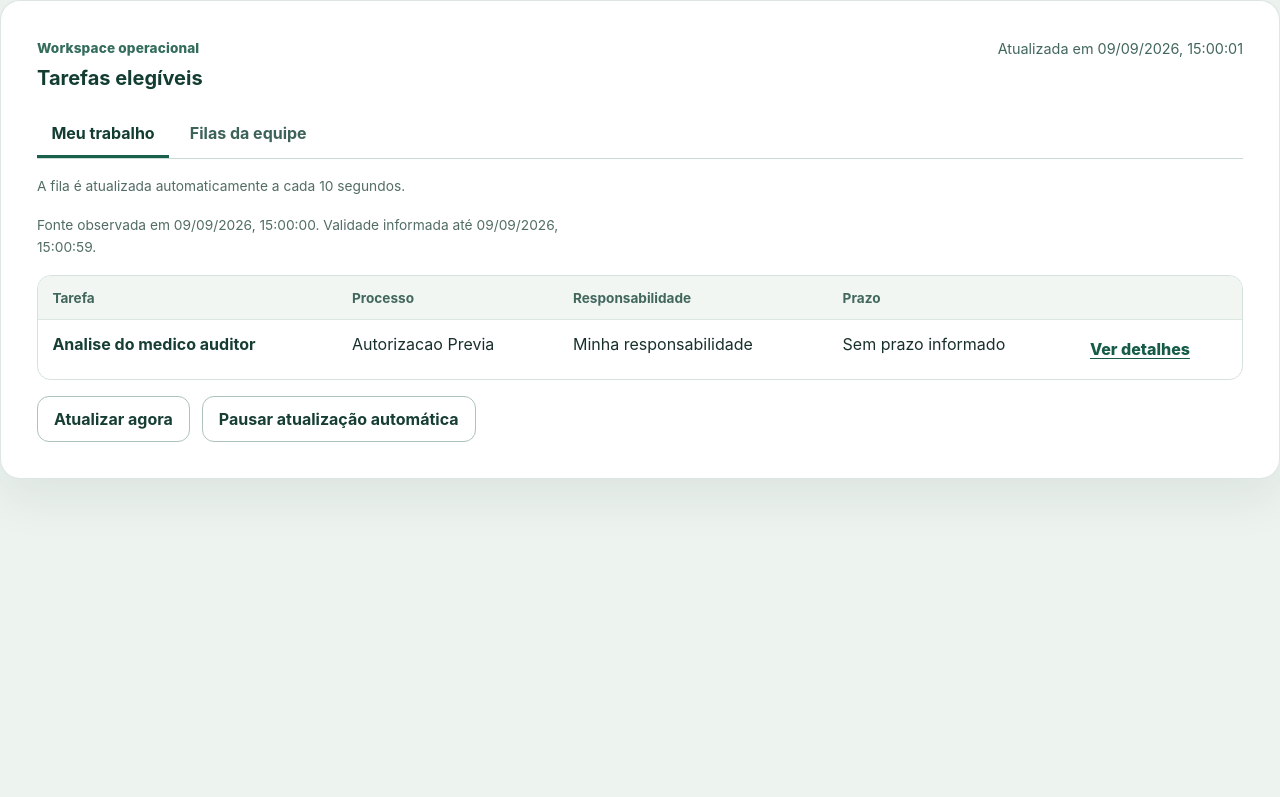
Test case: abre apenas o snapshot público e preserva valores exatos sem ações de mutação
Click the button with aria-label "Ver detalhes: Analise do medico auditor". click: (1140, 350)
box: x1=1090 y1=334 x2=1190 y2=365
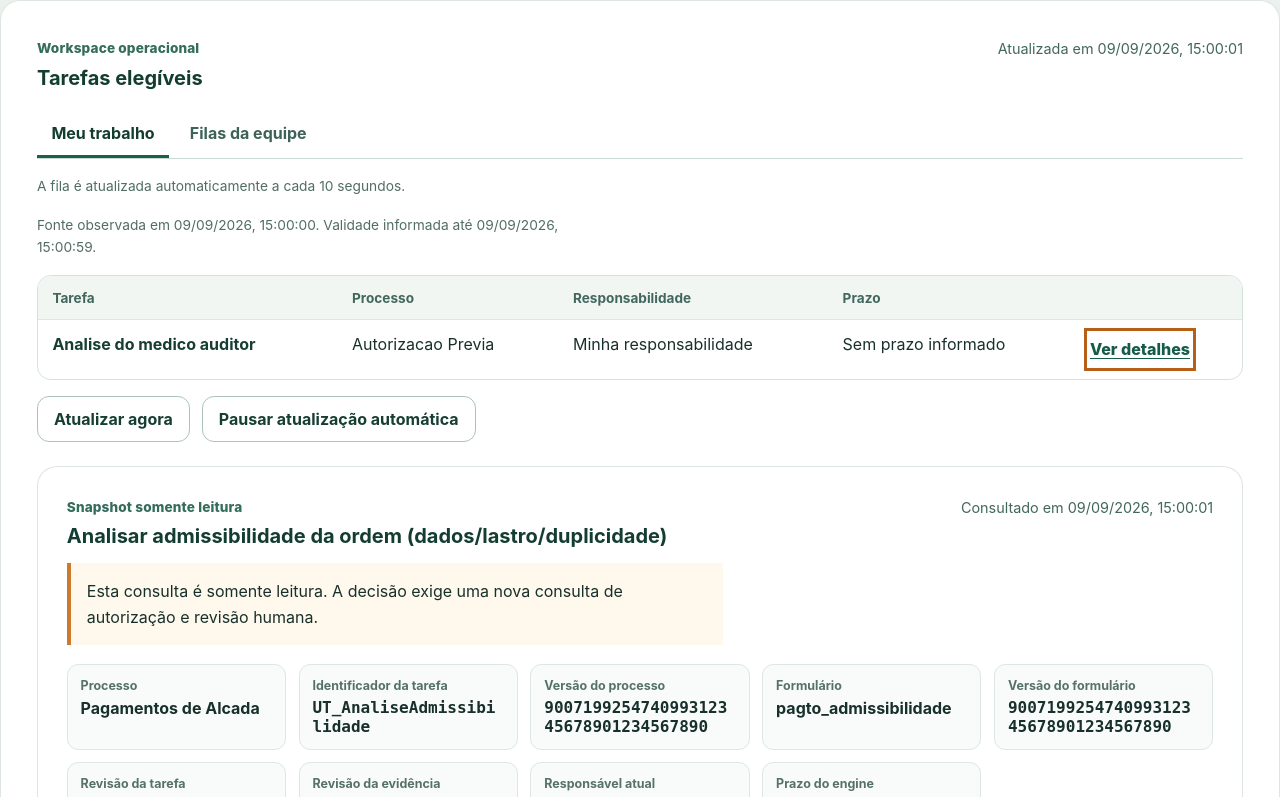
Expected: the heading "Analisar admissibilidade da ordem (dados/lastro/duplicidade)" is shown, x1=67 y1=526 x2=667 y2=548
Expected: the text "UT_AnaliseAdmissibilidade" is shown, x1=312 y1=698 x2=504 y2=736
Expected: the text "Pagamentos de Alcada" is shown, x1=81 y1=698 x2=272 y2=718
